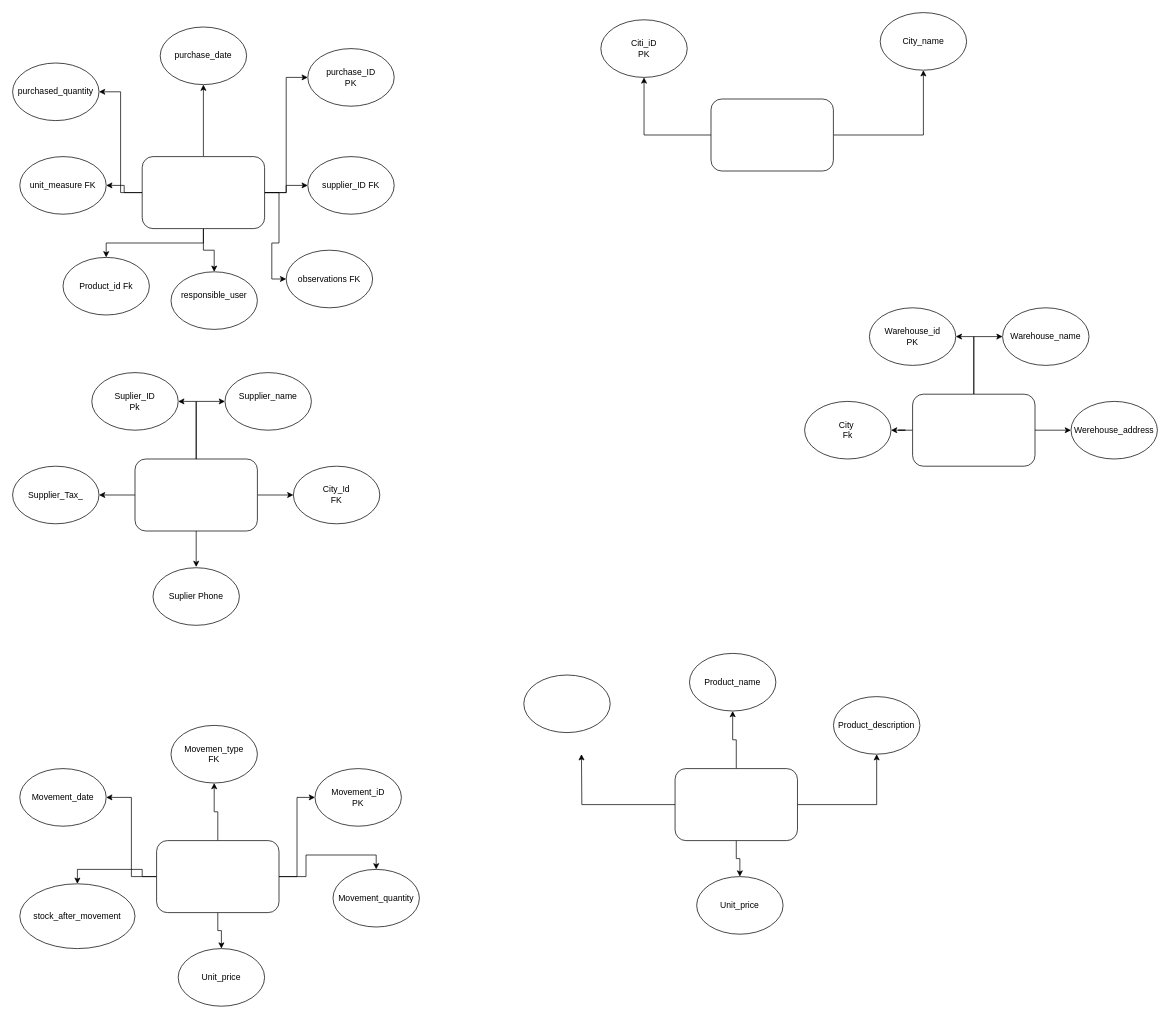
Some shapes in this 1170 by 1019 pixel diagram are drawn without their labels. The shapes that lost their labels are listed below. From the top down, each one's centre as x and y in pixels, then its label:
the point at 771,134: Cities
the point at 203,192: Purchase
the point at 973,429: Warehouse
the point at 195,494: Suplier
the point at 566,703: Product_ID PK
the point at 735,804: Produts
the point at 217,876: Movement
